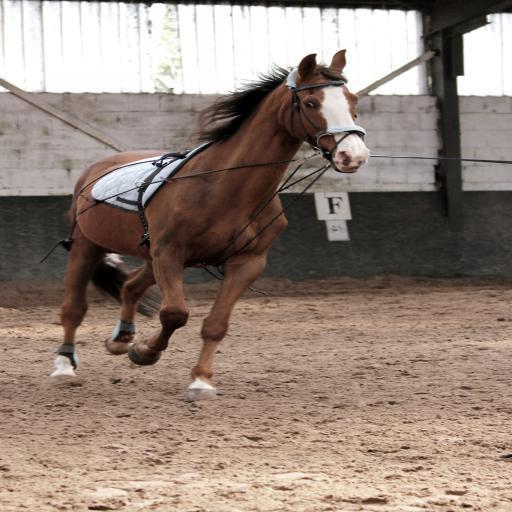horse: (51, 48, 370, 402)
